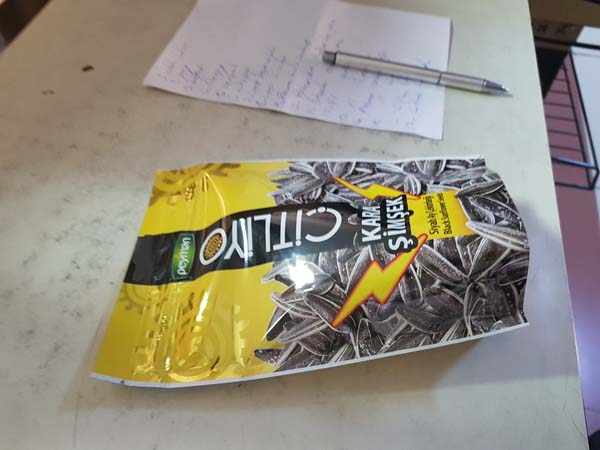citliyorkarasisimsek: (90, 153, 538, 404)
